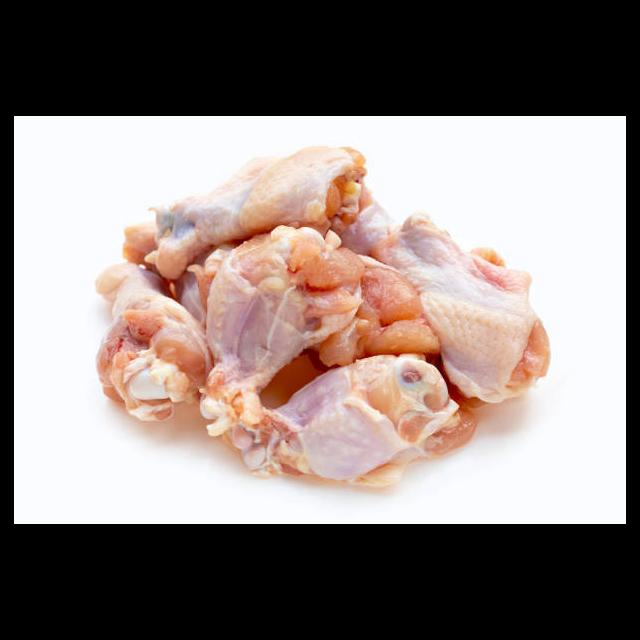chicken: (341, 191, 554, 406), (194, 224, 358, 436), (121, 142, 368, 282), (226, 356, 479, 490), (89, 259, 200, 423)
